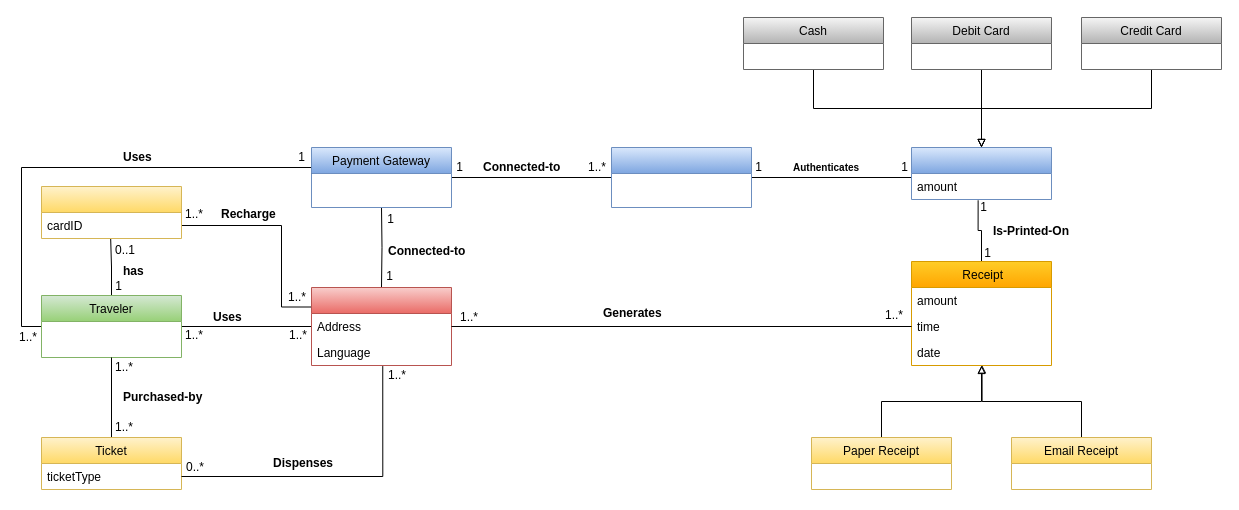
This 1239x510 diagram has some shape labels left out. Each missing label, with the box of its shape:
Bank: (610, 146, 752, 208)
Metro Card: (40, 186, 182, 238)
Payment: (910, 146, 1052, 200)
TVM: (310, 286, 452, 366)
